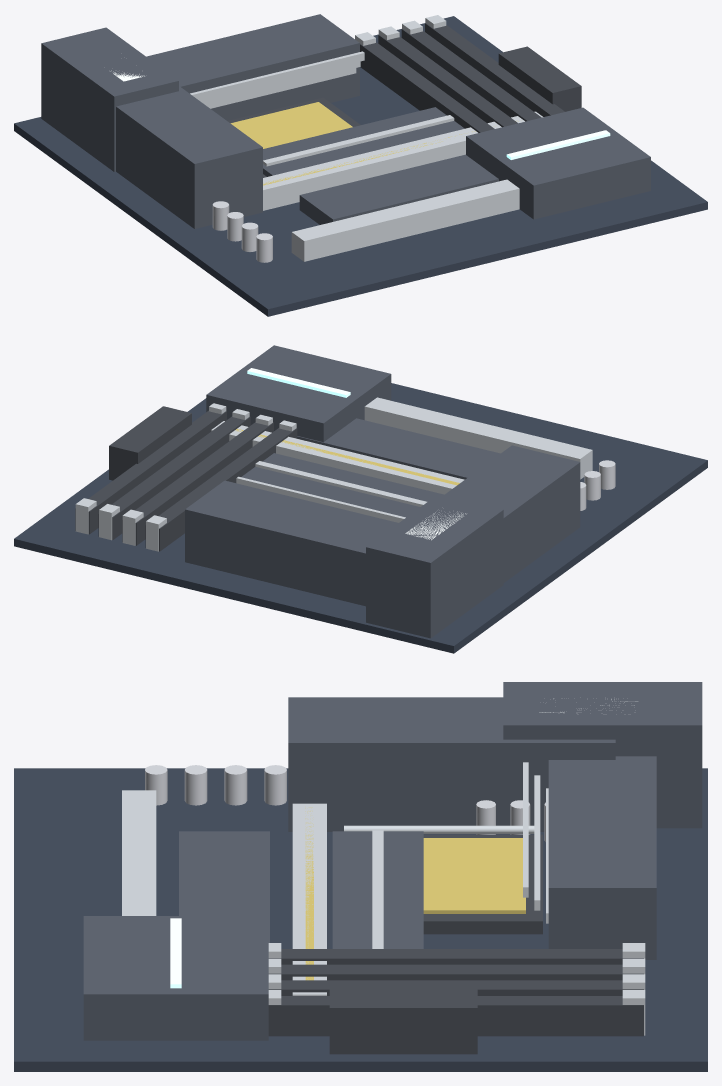
The model's file is motherboard.glb.
3 renders of one model, top to bottom at view 1: azimuth 30°, elevation 25°; view 2: azimuth 150°, elevation 25°; view 3: azimuth 270°, elevation 25°, orthographic. The views are drawn at different scales.
Parts seen in each view (by area): view 1: PCB, VRM_Left_IO, Chipset_Block, VRM_Top_Main, IO_Shield_Cover, PCIe_Slot_2_Armor, M2_Shield_Bot, PCIe_Slot_1_Armor, M2_Shield_Top, RAM_Slot_0, CPU_Socket_Pins, RAM_Slot_2 (+11 smaller); view 2: PCB, VRM_Top_Main, IO_Shield_Cover, Chipset_Block, VRM_Left_IO, M2_Shield_Bot, PCIe_Slot_2_Armor, M2_Shield_Top, PCIe_Slot_1_Armor, RAM_Slot_2, RAM_Slot_1, RAM_Slot_3 (+11 smaller); view 3: PCB, VRM_Left_IO, Chipset_Block, VRM_Top_Main, IO_Shield_Cover, ATX_24Pin, M2_Shield_Top, RAM_Slot_3, M2_Shield_Bot, CPU_Socket_Pins, RAM_Slot_1, RAM_Slot_0 (+14 smaller).
Part boxes in pixels (box(x1,y1,x2,y2)): PCB: box(14, 16, 707, 316); VRM_Left_IO: box(116, 86, 262, 228); Chipset_Block: box(466, 107, 650, 219); VRM_Top_Main: box(146, 14, 359, 120); IO_Shield_Cover: box(41, 27, 178, 171); PCIe_Slot_2_Armor: box(291, 179, 519, 261); M2_Shield_Bot: box(299, 154, 498, 224); PCIe_Slot_1_Armor: box(263, 111, 543, 210); M2_Shield_Top: box(263, 107, 464, 176); RAM_Slot_0: box(360, 42, 494, 132); CPU_Socket_Pins: box(230, 102, 352, 148); RAM_Slot_2: box(401, 29, 541, 121); PCB: box(14, 383, 707, 653); VRM_Top_Main: box(185, 480, 398, 606); IO_Shield_Cover: box(366, 494, 503, 638); Chipset_Block: box(206, 345, 391, 442); VRM_Left_IO: box(444, 445, 580, 582); M2_Shield_Bot: box(297, 418, 500, 479); PCIe_Slot_2_Armor: box(364, 397, 592, 479); M2_Shield_Top: box(241, 453, 443, 517); PCIe_Slot_1_Armor: box(211, 421, 464, 494); RAM_Slot_2: box(98, 416, 250, 539); RAM_Slot_1: box(122, 422, 273, 545); RAM_Slot_3: box(75, 410, 226, 534); PCB: box(14, 768, 707, 1071); VRM_Left_IO: box(288, 697, 615, 831); Chipset_Block: box(83, 916, 268, 1040); VRM_Top_Main: box(548, 756, 656, 959); IO_Shield_Cover: box(503, 682, 702, 828); ATX_24Pin: box(329, 988, 477, 1054); M2_Shield_Top: box(332, 831, 423, 948); RAM_Slot_3: box(268, 996, 643, 1036); M2_Shield_Bot: box(179, 831, 269, 942); CPU_Socket_Pins: box(423, 838, 525, 913); RAM_Slot_1: box(269, 964, 643, 980); RAM_Slot_0: box(268, 949, 643, 964).
Bounding box in the file's own units: 2.44 × 0.44 × 2.44.
